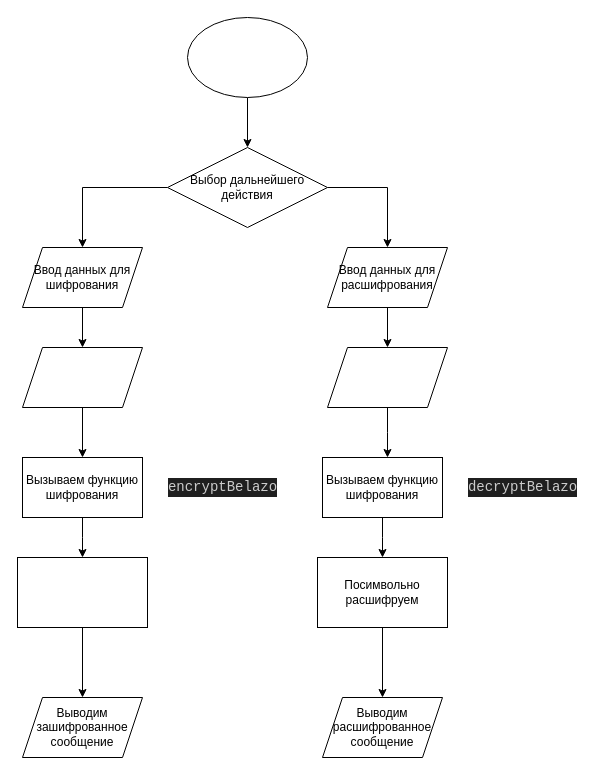
Some shapes in this 600 by 775 pixel diagram are drawn without their labels. The centre of each missing label's shape, as x and y in pixels:
Нажатие кнопки "Расшифровать": (x=387, y=377)
Нажатие кнопки "Шифровать": (x=82, y=377)
Начало: (x=247, y=57)
Посимвольно шифруем: (x=82, y=592)
